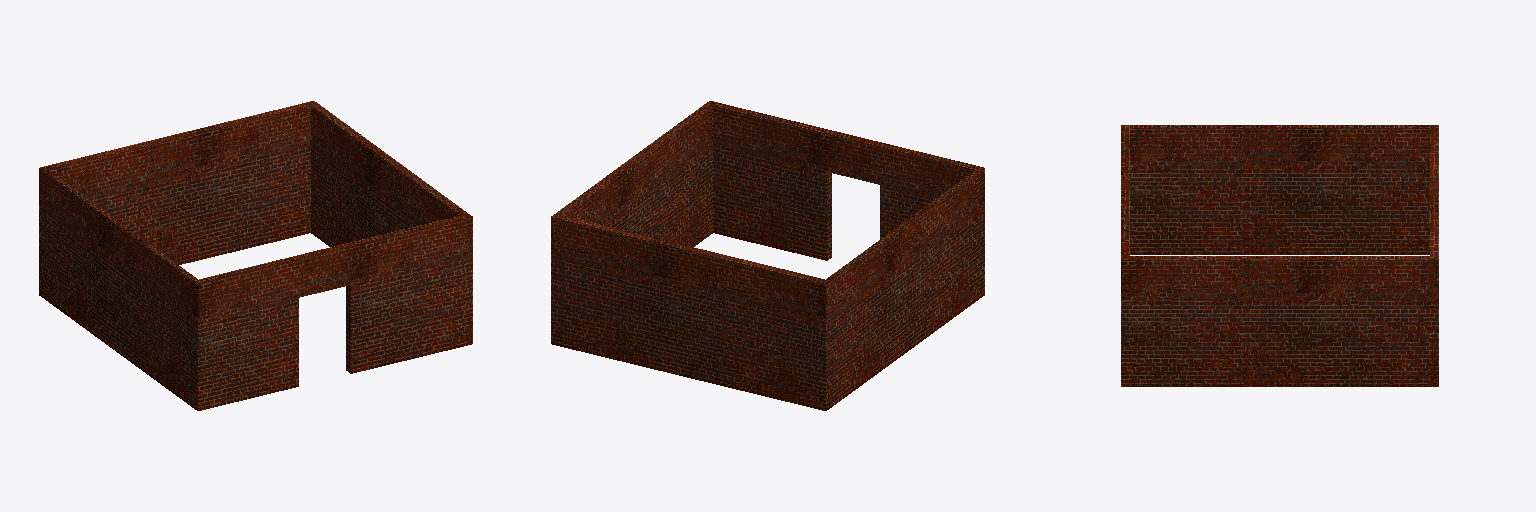
3 renders of one model, left to right at view 1: azimuth 30°, elevation 25°; view 2: azimuth 150°, elevation 25°; view 3: azimuth 270°, elevation 25°, orthographic.
Parts seen in each view (by area): view 1: group_4.002; view 2: group_4.002; view 3: group_4.002.
Part boxes in pixels (left/top/right/bottom): group_4.002: left=39, top=101, right=472, bottom=410; group_4.002: left=551, top=101, right=984, bottom=410; group_4.002: left=1121, top=125, right=1438, bottom=386.
Size of the model in its own units: 2.54 by 1.12 by 2.54.
1 materials, 1 textured.